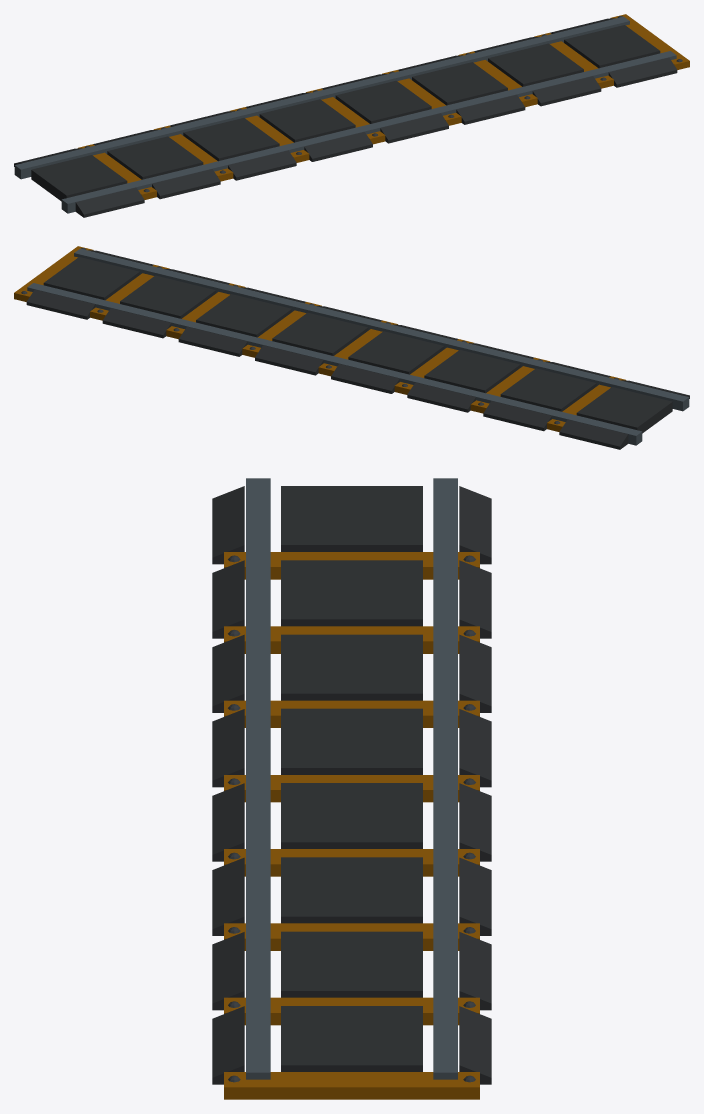
File: Track2.obj
The picture shows the model from 3 angles, top to bottom: view 1: azimuth 30°, elevation 25°; view 2: azimuth 150°, elevation 25°; view 3: azimuth 270°, elevation 25°; orthographic projection. The views are drawn at different scales.
Visible parts, largest first — view 1: Track2_Plane.030; view 2: Track2_Plane.030; view 3: Track2_Plane.030.
Part boxes in pixels (x1,y1,x2,y2): Track2_Plane.030: [14, 14, 689, 217]; Track2_Plane.030: [14, 246, 689, 449]; Track2_Plane.030: [212, 478, 491, 1099].
Size of the model in its own units: 16.2 by 0.2446 by 3.18.
1 material, 1 textured.
